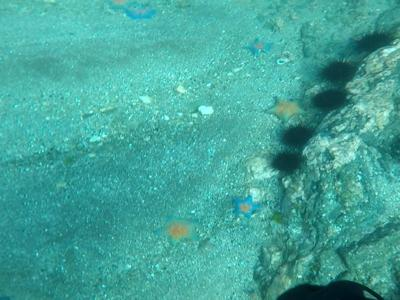urchin: (319, 57, 357, 83), (310, 89, 349, 113), (357, 29, 393, 52), (280, 123, 312, 148), (271, 149, 301, 174)
